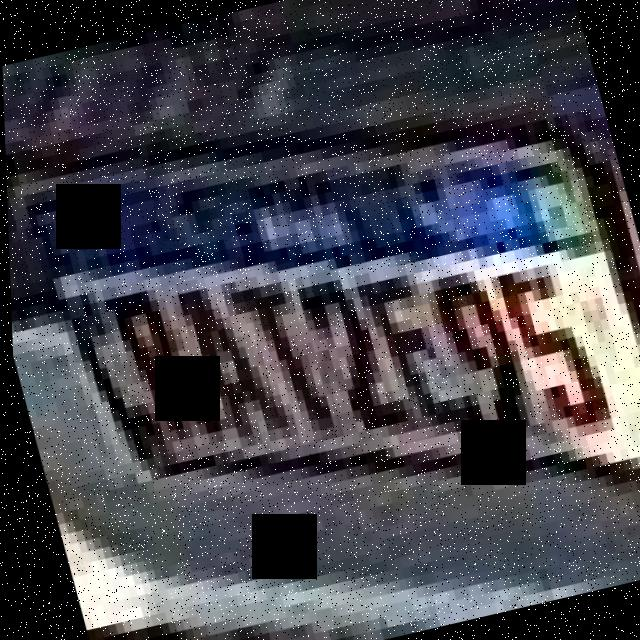5: (488, 245, 615, 444)
9: (425, 254, 534, 444)
A: (176, 267, 282, 464)
E: (354, 253, 470, 442)
R: (111, 280, 213, 456)
T: (221, 260, 337, 450)
